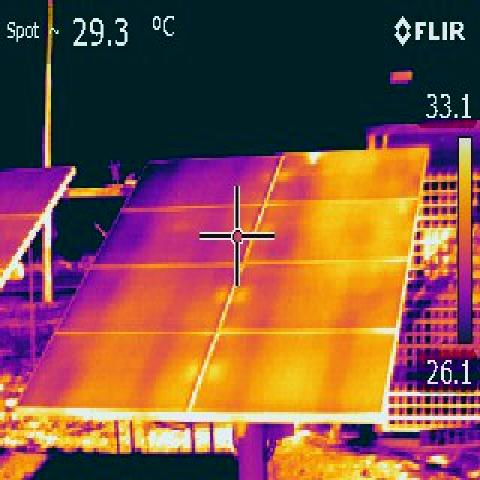fault: (306, 150, 324, 166), (184, 362, 198, 382), (207, 366, 222, 380), (398, 198, 409, 216)
